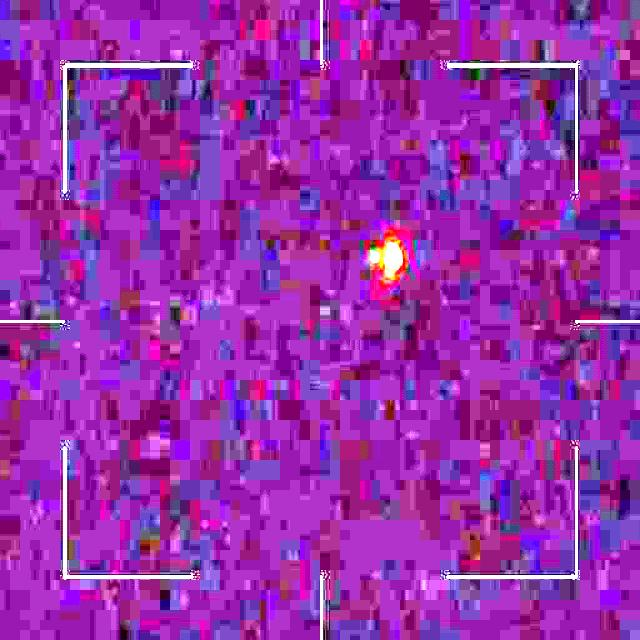bird: (368, 232, 405, 289)
